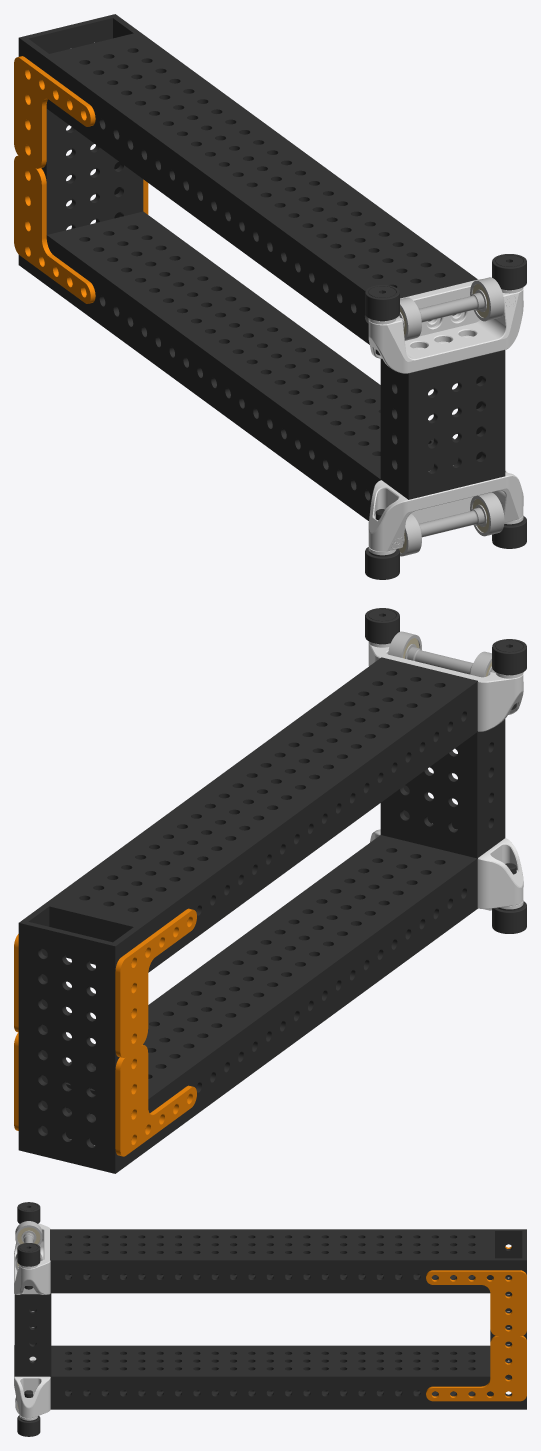
3 renders of one model, top to bottom at view 1: azimuth 30°, elevation 25°; view 2: azimuth 150°, elevation 25°; view 3: azimuth 270°, elevation 25°, orthographic. The views are drawn at different scales.
Parts seen in each view (by area): view 1: Tube 2"x1"x12" (×2), Tube 2"x1"x2.5", Elevator Bearing Block Body REV4(All Parts, Long Spacers) (×4), Tube 2"x1"x4.5", Part 1 (×2), 0.625" OD Cam Follower (1/4-20 x 3/4" L) (×4), Bearing, R4AZZ (×4); view 2: Tube 2"x1"x12" (×2), Tube 2"x1"x4.5", Tube 2"x1"x2.5", Part 1 (×2), Elevator Bearing Block Body REV4(All Parts, Long Spacers) (×3), 0.625" OD Cam Follower (1/4-20 x 3/4" L) (×3); view 3: Tube 2"x1"x12" (×2), Part 1 (×2), Tube 2"x1"x2.5", Elevator Bearing Block Body REV4(All Parts, Long Spacers) (×2), Tube 2"x1"x4.5", 0.625" OD Cam Follower (1/4-20 x 3/4" L) (×3), Bearing, R4AZZ.
Boxes of the visible parts, left/top/right/bottom form: Tube 2"x1"x12" (×2): left=46, top=34, right=477, bottom=520; Tube 2"x1"x2.5": left=380, top=350, right=505, bottom=499; Elevator Bearing Block Body REV4(All Parts, Long Spacers) (×4): left=368, top=279, right=523, bottom=551; Tube 2"x1"x4.5": left=18, top=14, right=143, bottom=285; Part 1 (×2): left=14, top=56, right=95, bottom=303; 0.625" OD Cam Follower (1/4-20 x 3/4" L) (×4): left=365, top=254, right=526, bottom=579; Bearing, R4AZZ (×4): left=399, top=277, right=504, bottom=556; Tube 2"x1"x12" (×2): left=47, top=657, right=477, bottom=1153; Tube 2"x1"x4.5": left=18, top=902, right=143, bottom=1173; Tube 2"x1"x2.5": left=380, top=719, right=505, bottom=858; Part 1 (×2): left=115, top=908, right=196, bottom=1156; Elevator Bearing Block Body REV4(All Parts, Long Spacers) (×3): left=368, top=643, right=523, bottom=909; 0.625" OD Cam Follower (1/4-20 x 3/4" L) (×3): left=365, top=608, right=526, bottom=933; Tube 2"x1"x12" (×2): left=50, top=1229, right=490, bottom=1409; Part 1 (×2): left=426, top=1270, right=526, bottom=1401; Tube 2"x1"x2.5": left=14, top=1293, right=51, bottom=1376; Elevator Bearing Block Body REV4(All Parts, Long Spacers) (×2): left=14, top=1223, right=50, bottom=1418; Tube 2"x1"x4.5": left=490, top=1229, right=526, bottom=1409; 0.625" OD Cam Follower (1/4-20 x 3/4" L) (×3): left=17, top=1202, right=40, bottom=1436; Bearing, R4AZZ: left=15, top=1221, right=42, bottom=1245.
Size of the model in its own units: 0.0827 by 0.141 by 0.3552.
